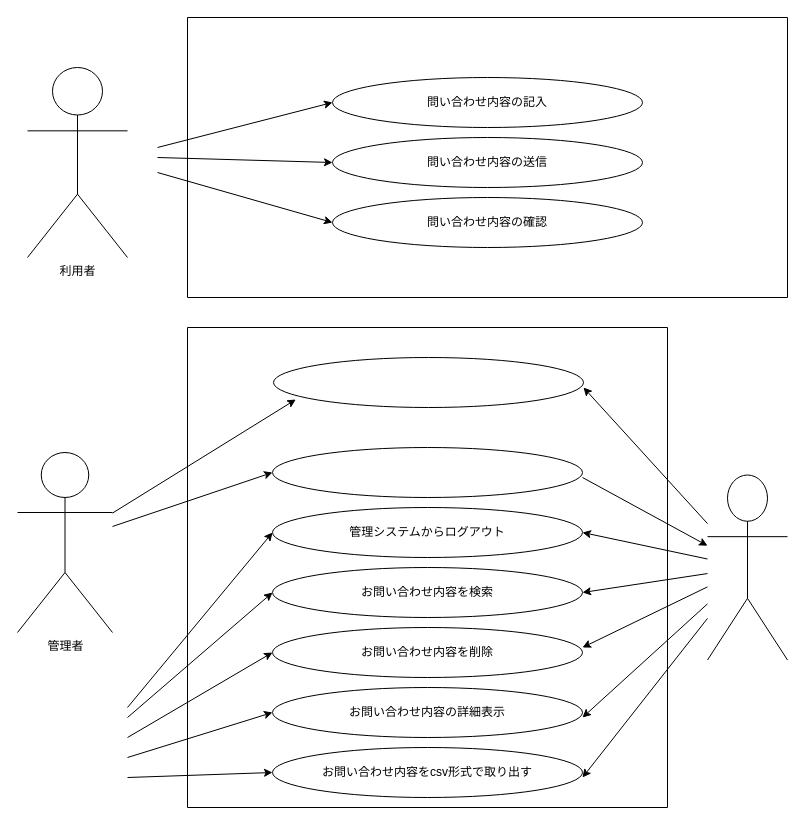
This 805x825 diagram has some shape labels left out. Here are the shapes that lost their labels. From the top down, the box of each, then its label:
(186, 16, 788, 298): 問い合わせ送信システム
(272, 356, 584, 408): 管理システムにログイン
(272, 446, 582, 498): 新規ユーザーの作成・登録
(186, 326, 668, 808): 問い合わせ管理システム
(706, 474, 788, 660): 新規管理者
